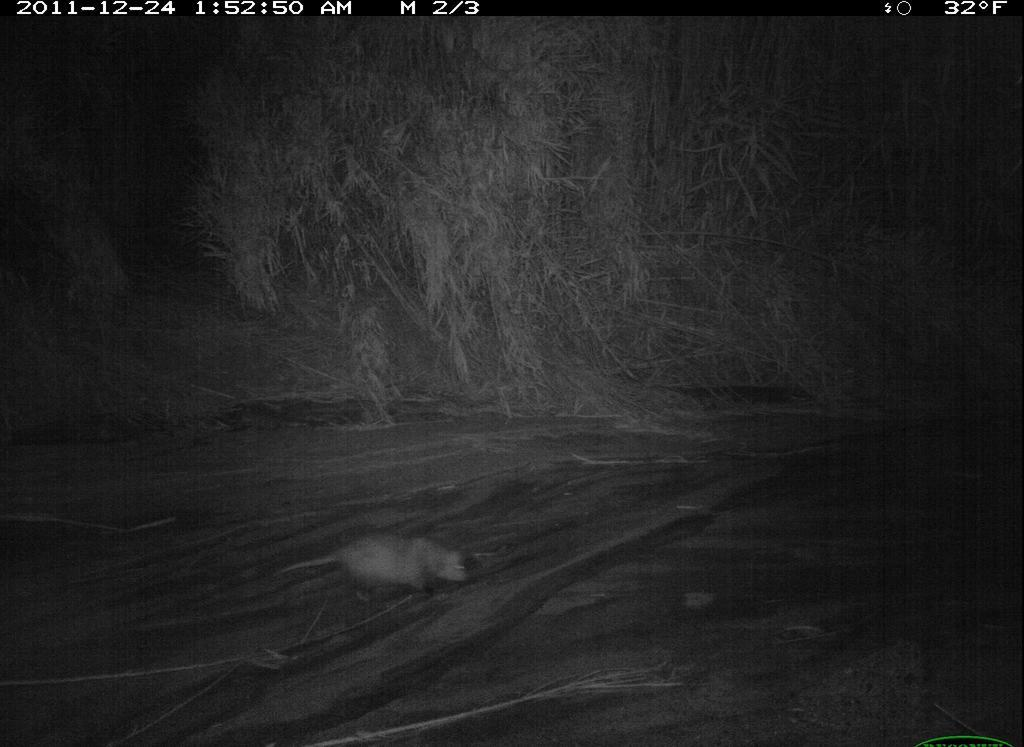opossum: (269, 530, 474, 609)
